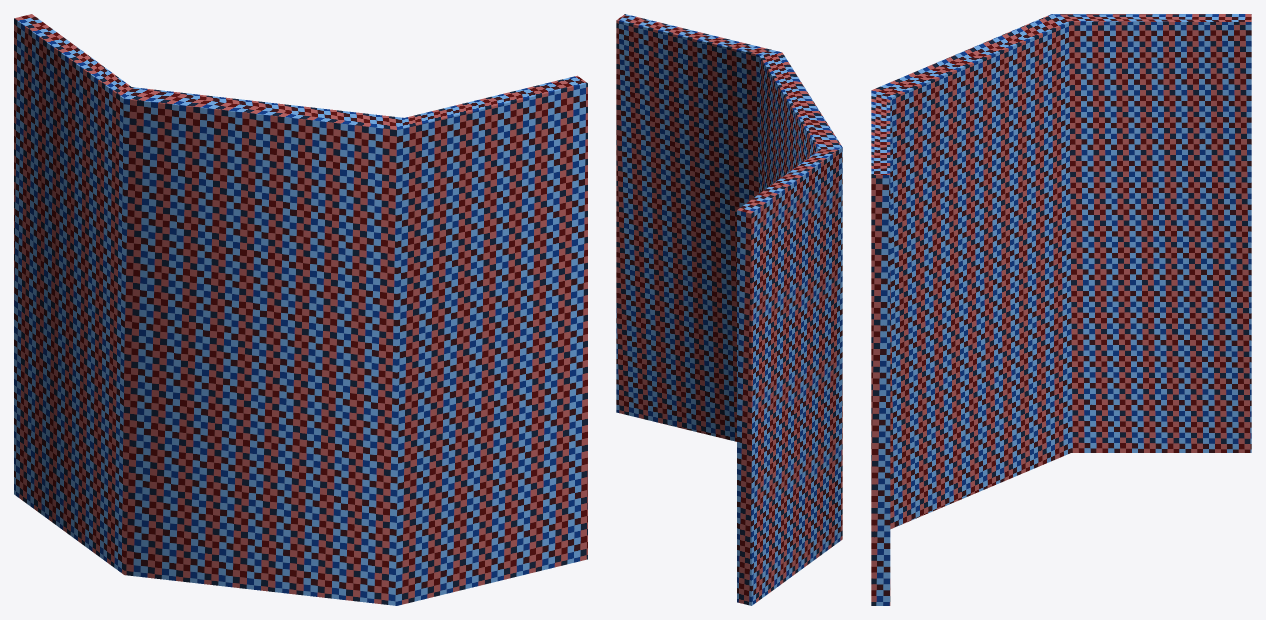
The model's file is Smallwall_half_turn_angled_02.fbx.
3 renders of one model, left to right at view 1: azimuth 30°, elevation 25°; view 2: azimuth 150°, elevation 25°; view 3: azimuth 270°, elevation 25°, orthographic. The views are drawn at different scales.
Parts seen in each view (by area): view 1: Smallwall_half_turn_angled_02; view 2: Smallwall_half_turn_angled_02; view 3: Smallwall_half_turn_angled_02.
Boxes of the visible parts, x1,y1,x2,y2 form: Smallwall_half_turn_angled_02: [14, 14, 587, 605]; Smallwall_half_turn_angled_02: [616, 14, 842, 605]; Smallwall_half_turn_angled_02: [871, 14, 1251, 605].
Size of the model in its own units: 200 by 250 by 200.
Materials: 1 (1 with a texture image).
